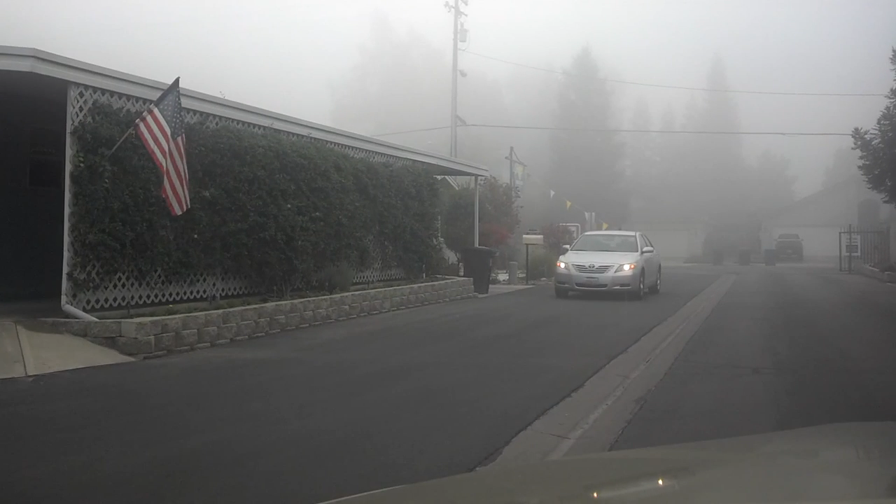car: (553, 229, 662, 300), (772, 231, 805, 260)
